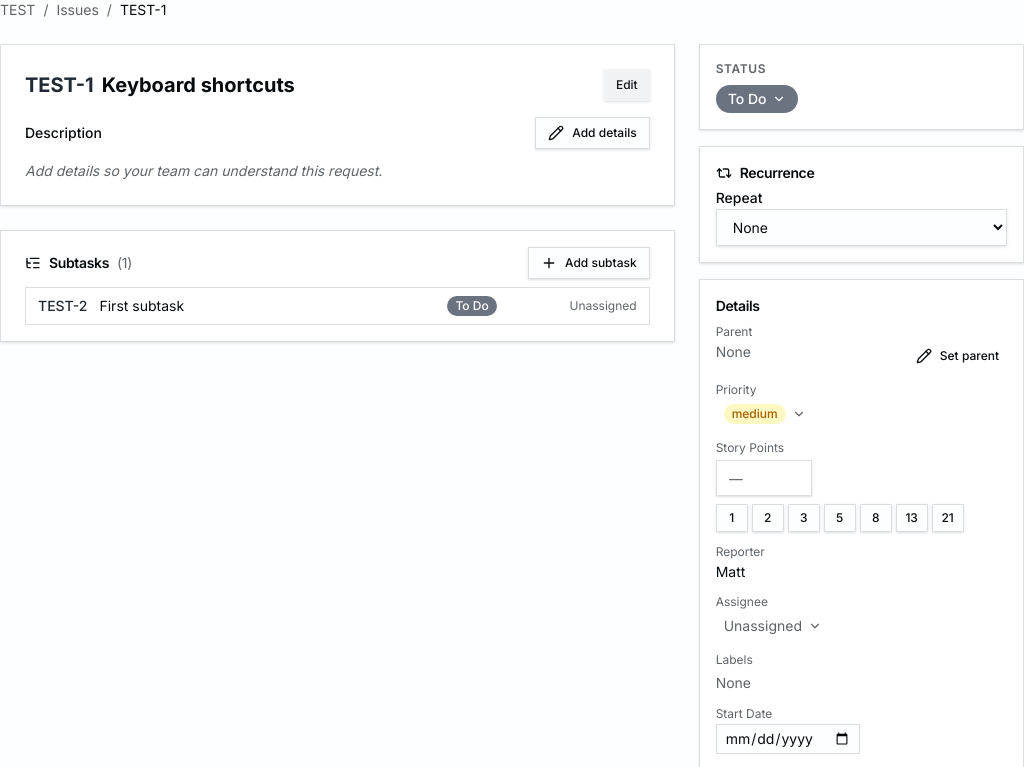
Test: IssueDetailPage keyboard shortcuts › enters edit mode with e and cancels it with Escape
Press e
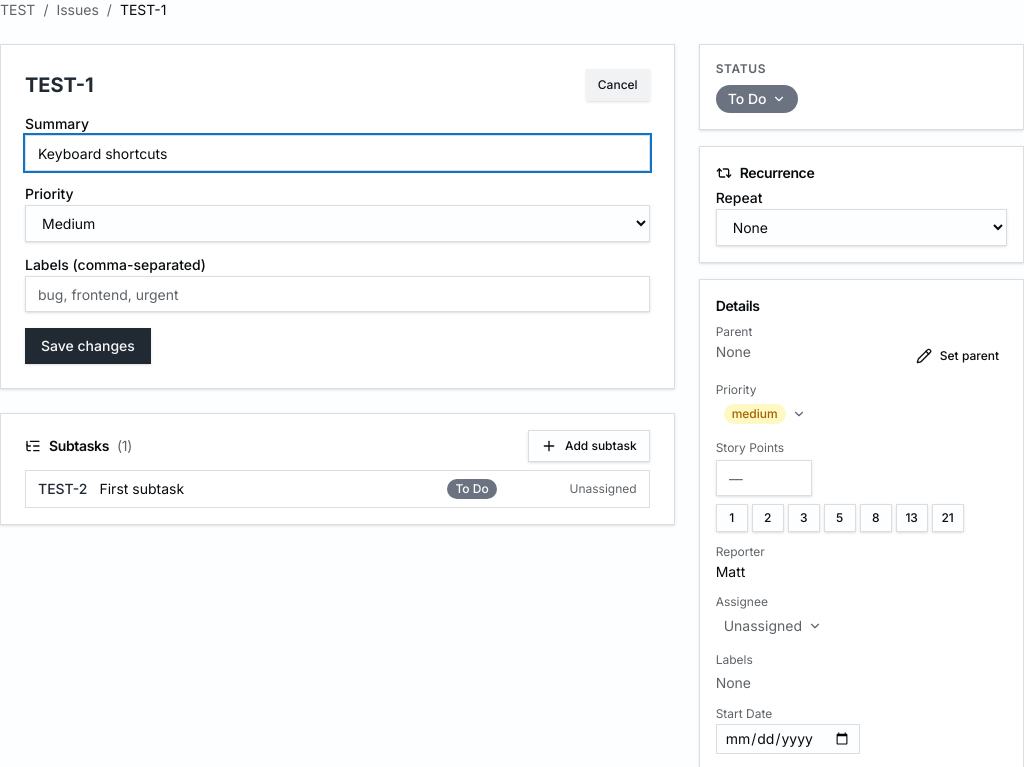
Replace the text in the field labelled "Summary" with "Discarded change" at (337, 153), box [25,135,650,171]
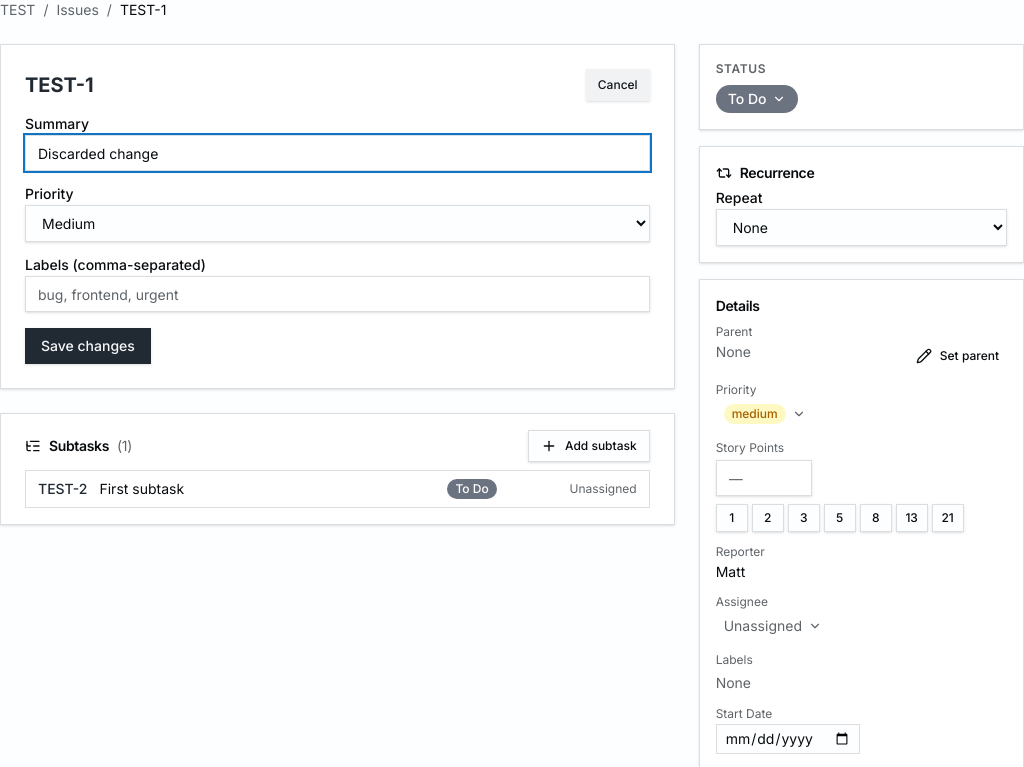
Press Escape in the field labelled "Summary", box [25,135,650,171]
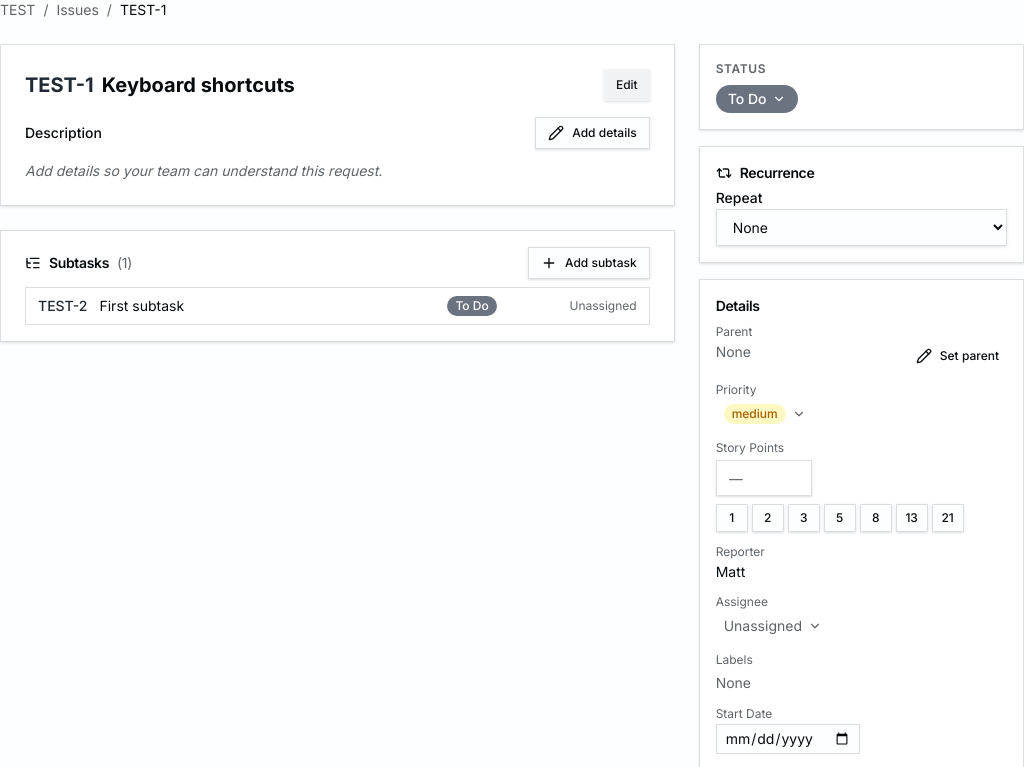
expect the label labelled "Summary" is gone: met
expect the heading "TEST-1Keyboard shortcuts" is shown: met, box [25,71,295,99]
